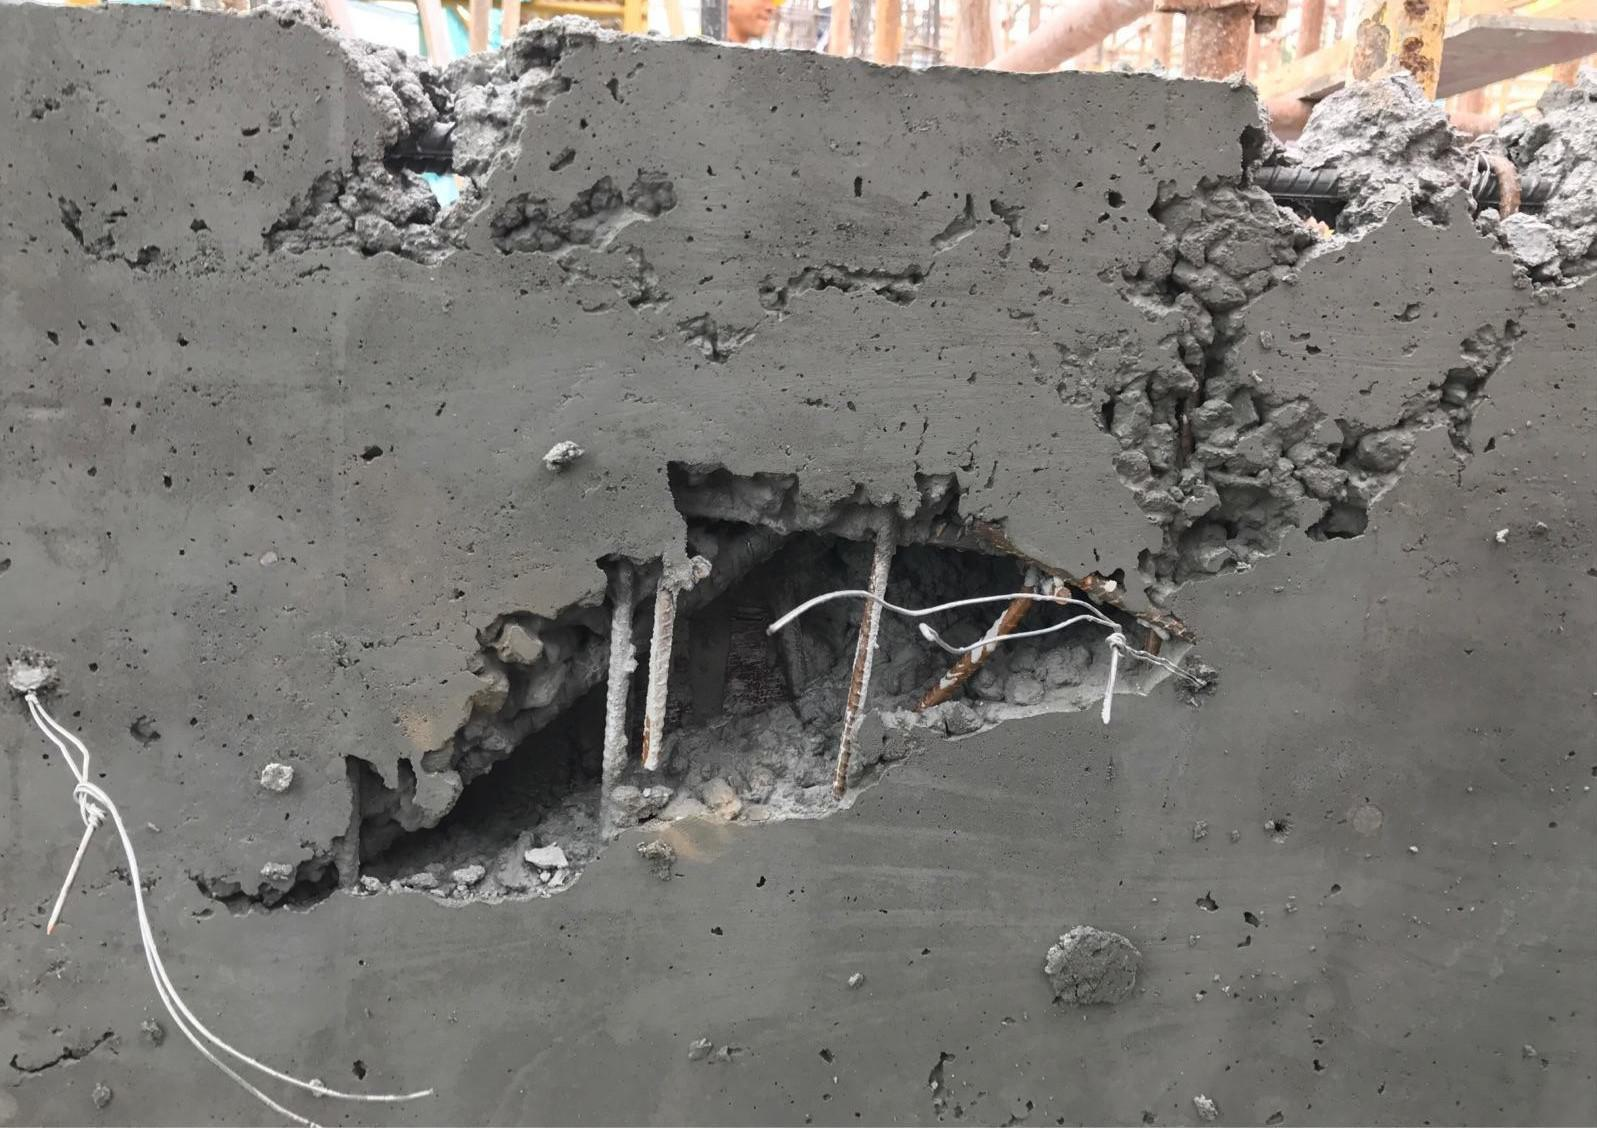Exposed reinforcement: (971, 521, 1198, 645), (673, 479, 1021, 558), (829, 527, 897, 800), (916, 568, 1040, 717), (676, 524, 794, 616), (598, 559, 639, 823), (641, 584, 683, 772), (383, 120, 455, 176), (336, 753, 363, 890), (1465, 173, 1562, 205), (1250, 165, 1343, 197), (1479, 153, 1521, 221), (1176, 389, 1200, 471), (1143, 630, 1162, 671)
Spalling: (182, 460, 1198, 920), (1055, 65, 1597, 604), (1, 1, 680, 313), (680, 166, 1055, 472)
